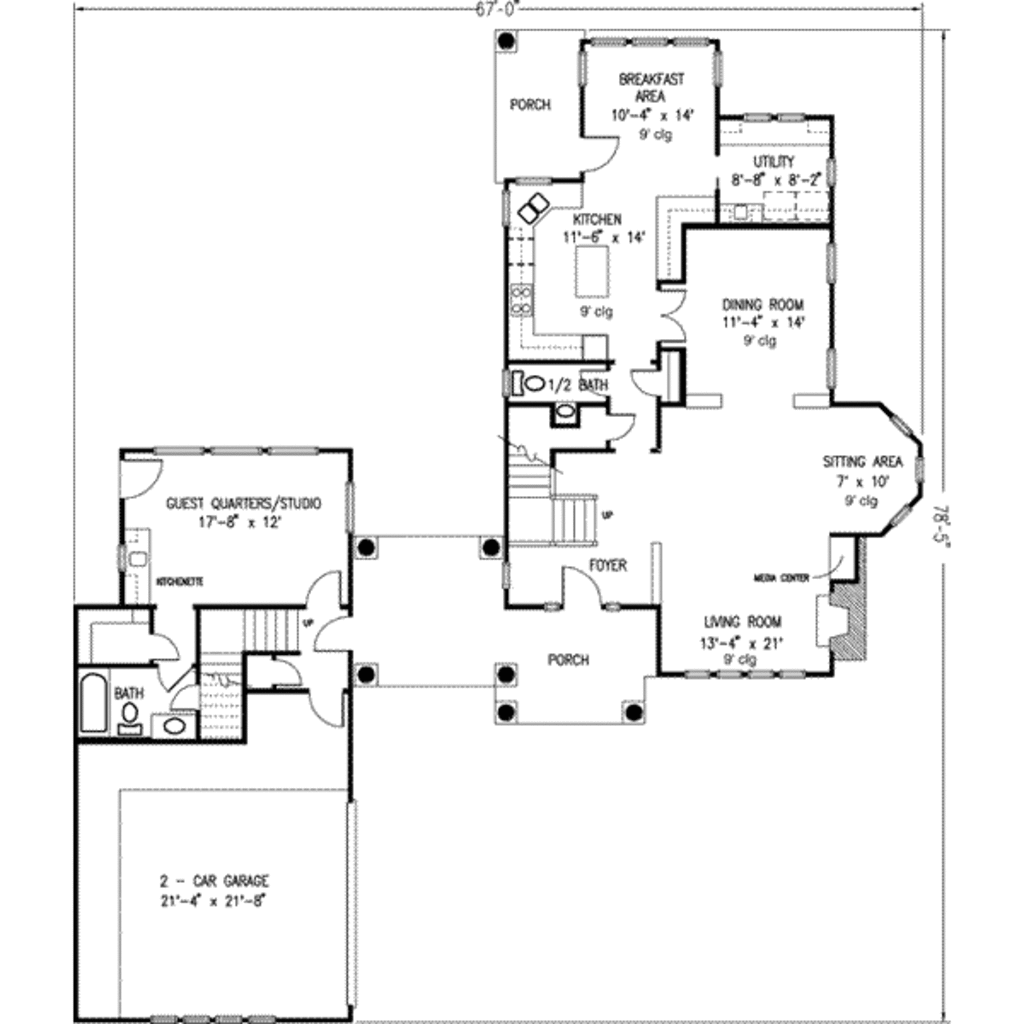door: (653, 285, 717, 349), (567, 127, 630, 190), (115, 458, 168, 511), (556, 568, 604, 616), (301, 569, 347, 615), (309, 617, 354, 662), (314, 693, 353, 732), (274, 660, 307, 693), (150, 633, 182, 665), (605, 406, 637, 438), (634, 366, 663, 395)
kitchen_bar: (567, 241, 625, 299)
large_sink: (117, 695, 156, 734)
small_sink: (147, 706, 196, 755)
stairs: (195, 609, 323, 737), (503, 441, 610, 548)
tub: (39, 668, 115, 744)
twin_sink: (502, 184, 563, 245)
window: (688, 614, 812, 738), (825, 241, 878, 294), (826, 344, 869, 387)
